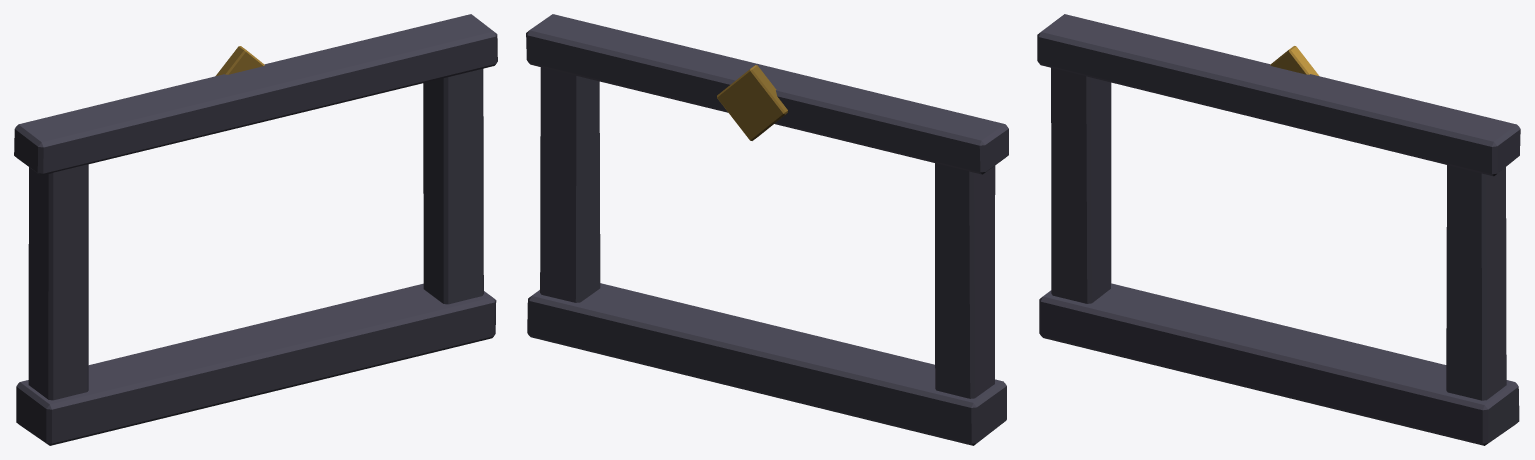
The model's file is obelisco_moldura.fbx.
3 renders of one model, left to right at view 1: azimuth 30°, elevation 25°; view 2: azimuth 150°, elevation 25°; view 3: azimuth 330°, elevation 25°, orthographic.
Visible parts, largest first — view 1: obelisco_moldura; view 2: obelisco_moldura; view 3: obelisco_moldura.
Boxes of the visible parts, x1,y1,x2,y2 form: obelisco_moldura: [14, 14, 497, 445]; obelisco_moldura: [526, 14, 1008, 445]; obelisco_moldura: [1037, 14, 1520, 445].
Bounding box in the file's own units: 18.43 × 12.39 × 2.41.
